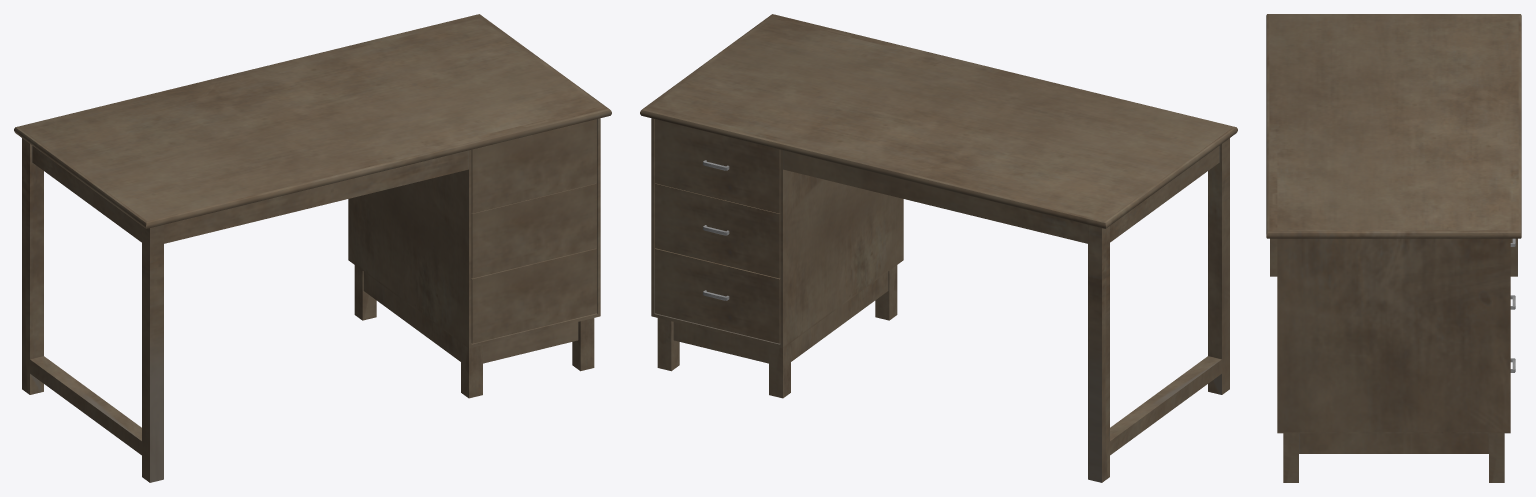
The model's file is desk.gltf.
3 renders of one model, left to right at view 1: azimuth 30°, elevation 25°; view 2: azimuth 150°, elevation 25°; view 3: azimuth 270°, elevation 25°, orthographic. The views are drawn at different scales.
Parts seen in each view (by area): view 1: desk; view 2: desk; view 3: desk.
Boxes of the visible parts, x1,y1,x2,y2 form: desk: (14, 14, 611, 482); desk: (640, 14, 1237, 482); desk: (1266, 14, 1521, 482).
Size of the model in its own units: 1.25 by 0.6742 by 0.6136.
1 material, 1 textured.
